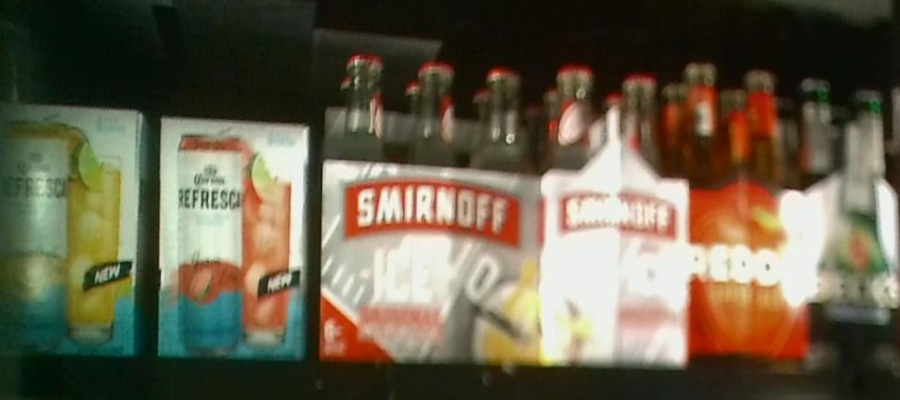bottle: (319, 53, 541, 364), (544, 61, 689, 371), (1, 107, 154, 362), (160, 112, 314, 361), (690, 59, 809, 359)
